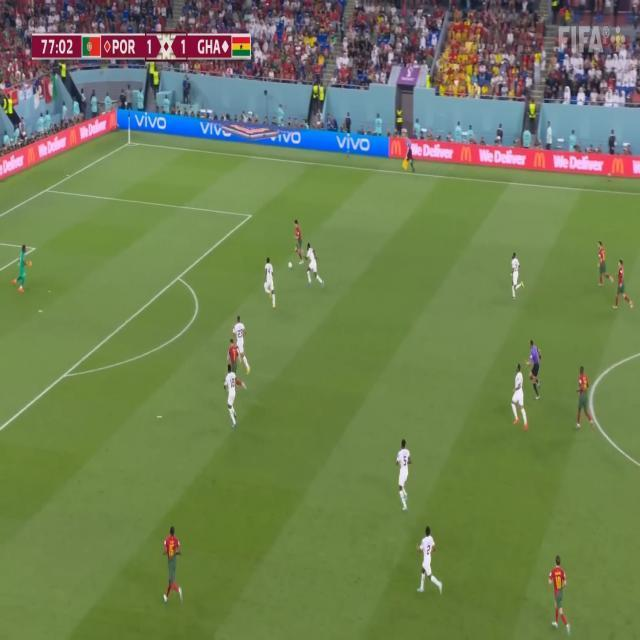football: (283, 258, 297, 280)
